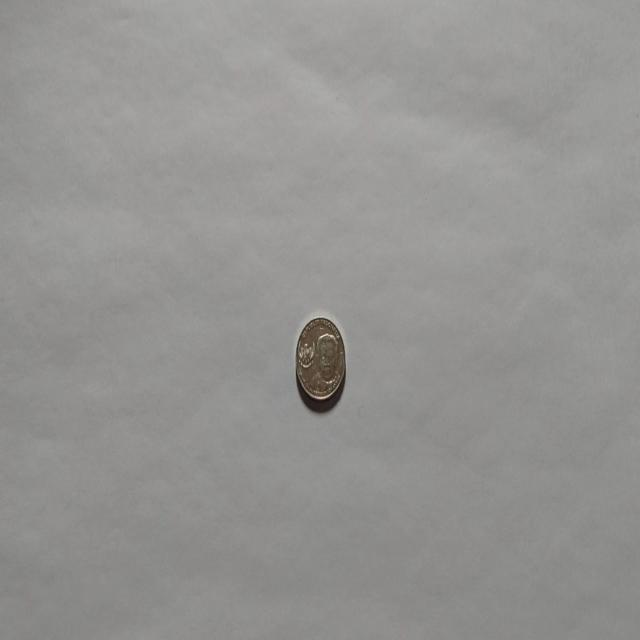seratus rupiah: (294, 314, 346, 402)
